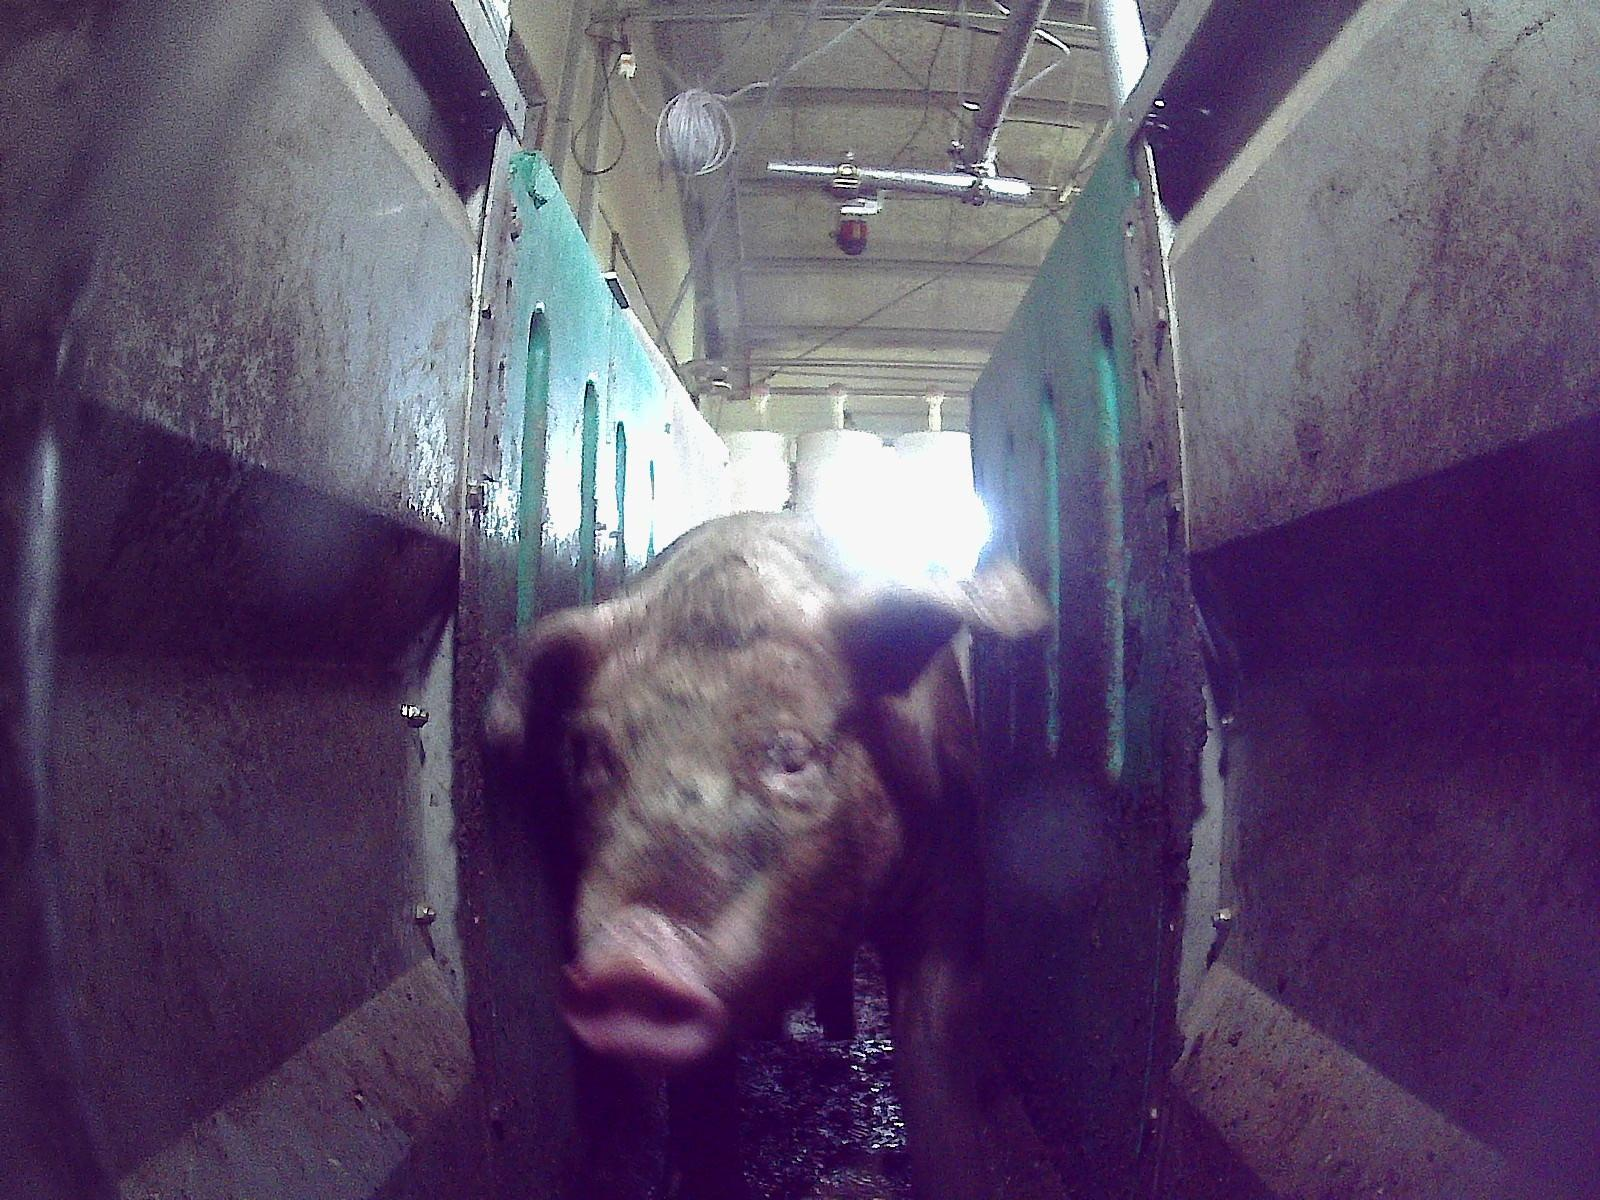Face: (559, 629, 876, 1065)
